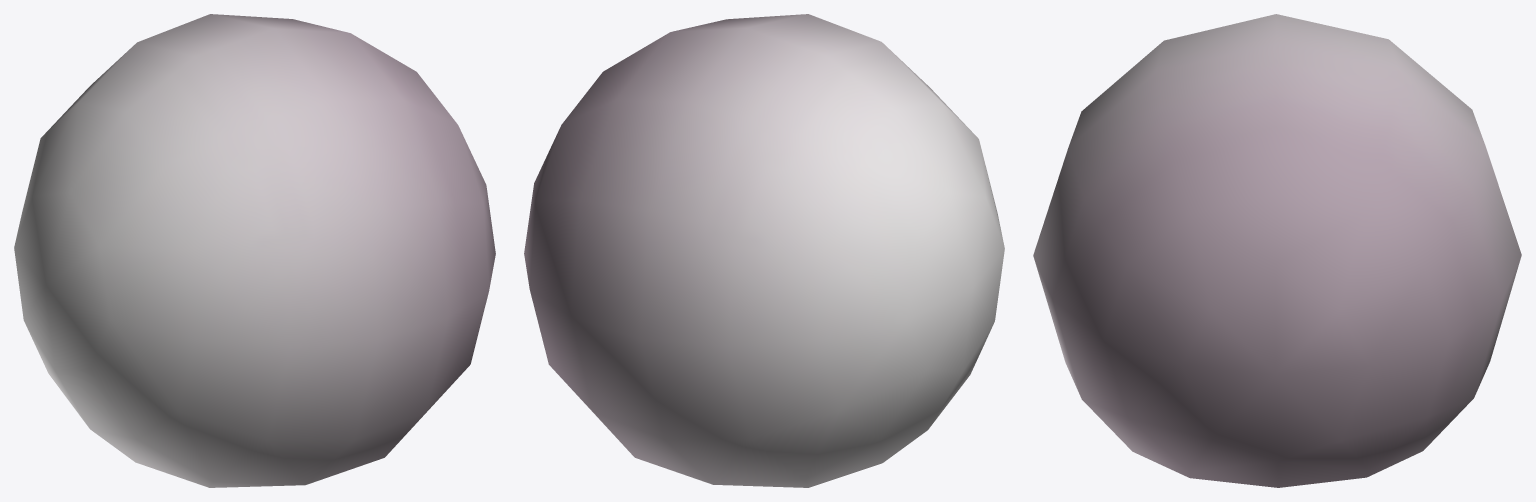
The model's file is zero_hombroDer.obj.
3 views of the same model, side by side, from view 1: azimuth 30°, elevation 25°; view 2: azimuth 150°, elevation 25°; view 3: azimuth 270°, elevation 25° (orthographic).
Parts seen in each view (by area): view 1: Hombro_derecho; view 2: Hombro_derecho; view 3: Hombro_derecho.
Part boxes in pixels (x1,y1,x2,y2): Hombro_derecho: [14, 14, 495, 487]; Hombro_derecho: [524, 14, 1004, 487]; Hombro_derecho: [1033, 14, 1521, 487].
Size of the model in its own units: 0.4237 by 0.3867 by 0.4248.
